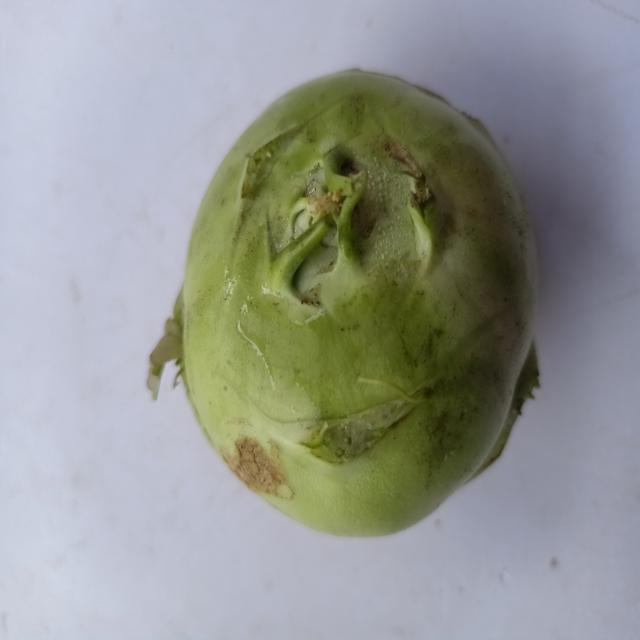Turnip: (123, 56, 561, 578)
